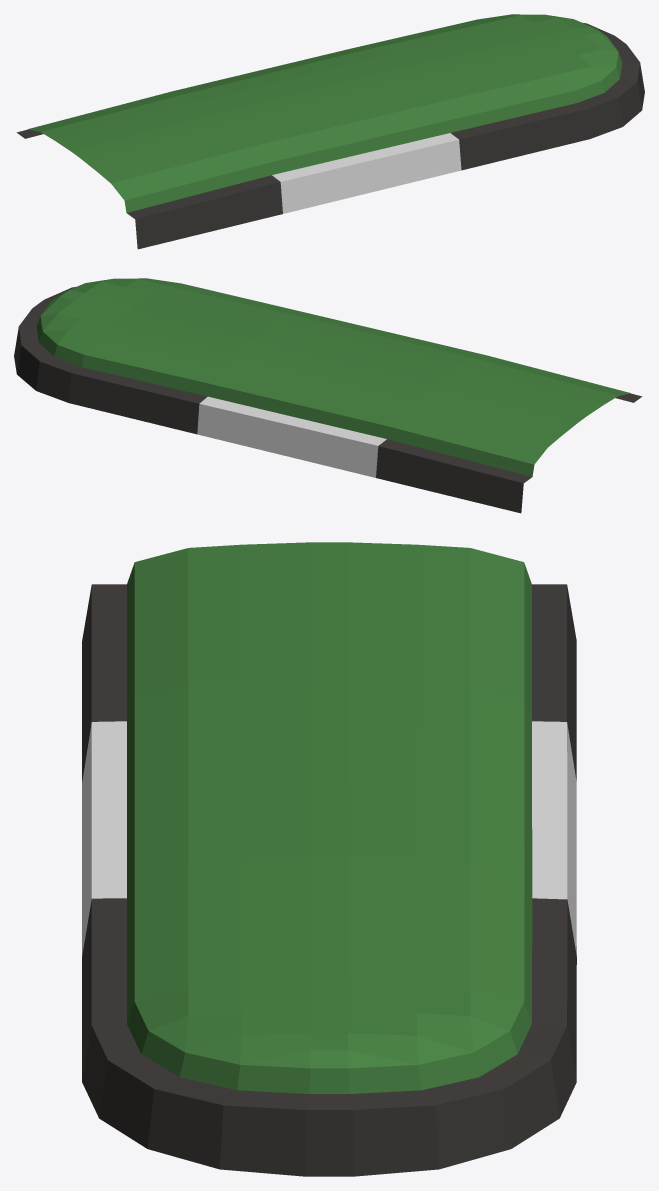
File: SM_Factory_Green_space_Start.glb
The picture shows the model from 3 angles, top to bottom: view 1: azimuth 30°, elevation 25°; view 2: azimuth 150°, elevation 25°; view 3: azimuth 270°, elevation 25°; orthographic projection. The views are drawn at different scales.
Visible parts, largest first — view 1: SM_Factory_Green_space_Start; view 2: SM_Factory_Green_space_Start; view 3: SM_Factory_Green_space_Start.
Part boxes in pixels (x1=…): SM_Factory_Green_space_Start: x1=16, y1=14, x2=644, y2=249; SM_Factory_Green_space_Start: x1=14, y1=278, x2=642, y2=513; SM_Factory_Green_space_Start: x1=82, y1=542, x2=576, y2=1176.
Size of the model in its own units: 5 by 0.4545 by 1.95.
1 material, 1 textured.
